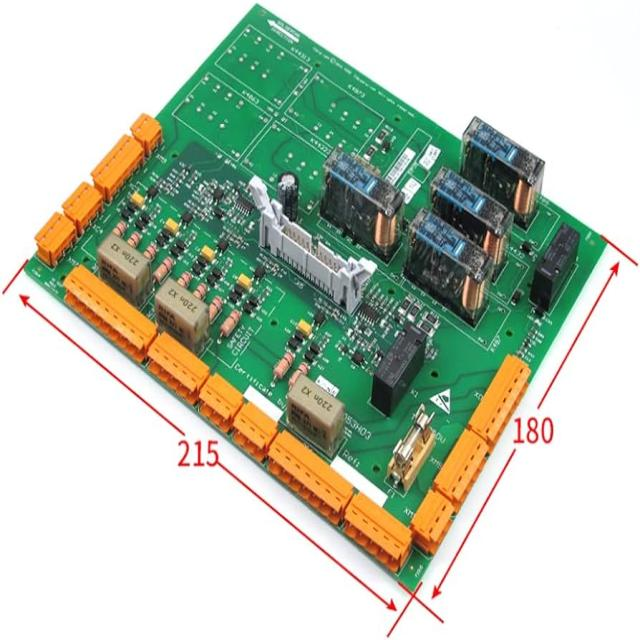pcb: (14, 2, 630, 616), (248, 172, 376, 316), (285, 373, 345, 457), (153, 276, 210, 350), (95, 231, 151, 306)
